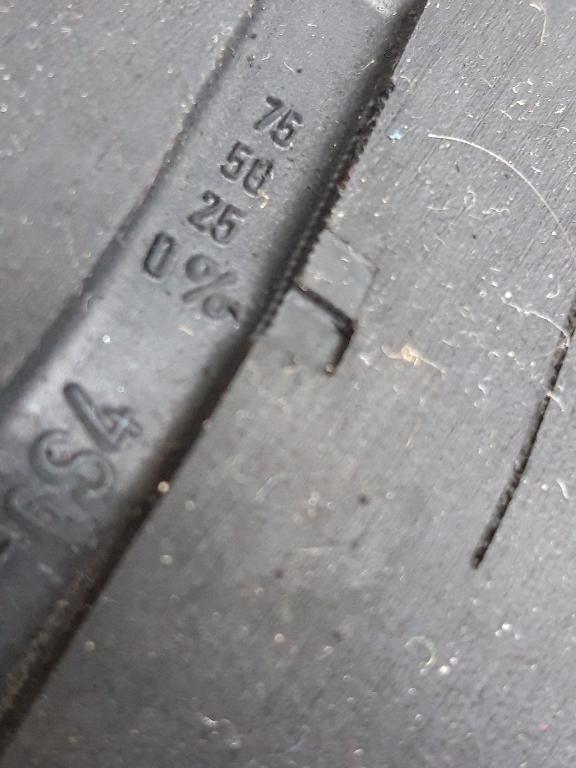temoin:25: (240, 201, 399, 395)
